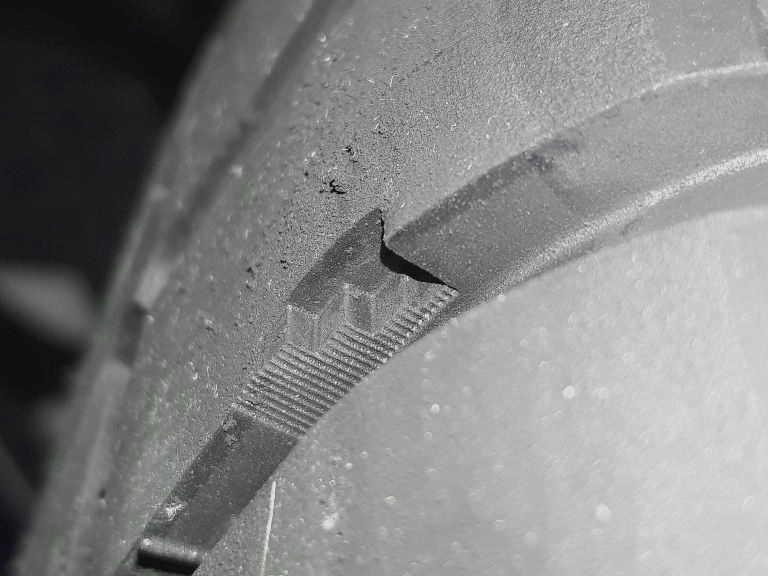temoin:75: (250, 199, 467, 422)
